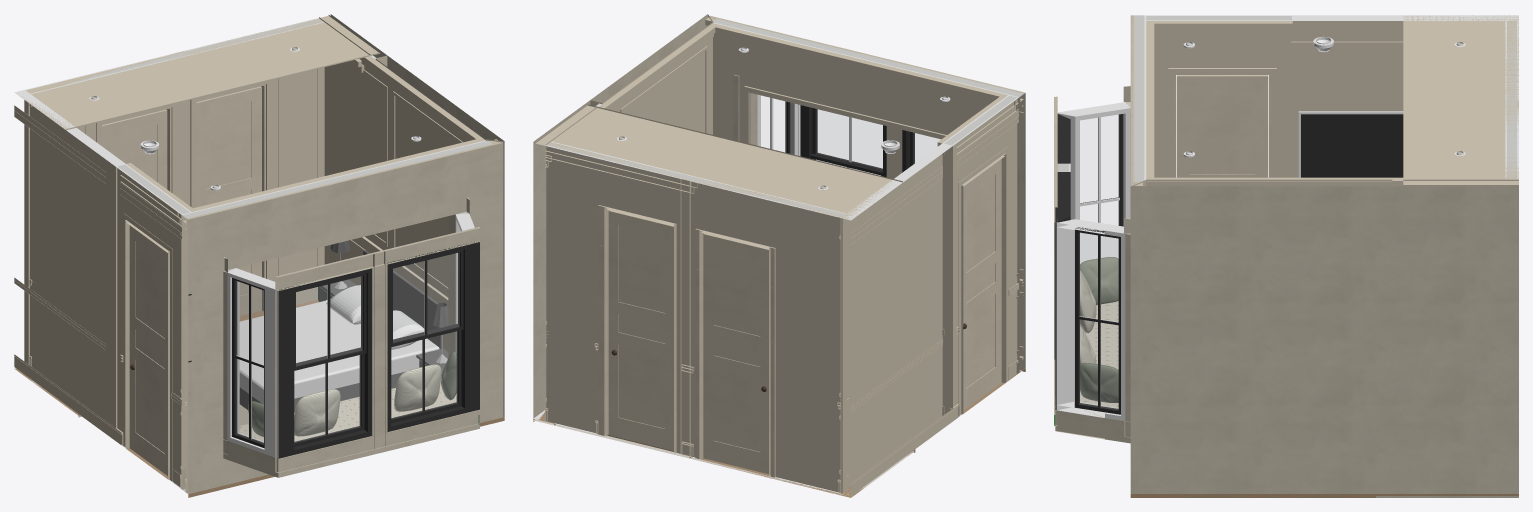
The model's file is loli-bedroom-859df771120a.glb.
3 renders of one model, left to right at view 1: azimuth 30°, elevation 25°; view 2: azimuth 150°, elevation 25°; view 3: azimuth 270°, elevation 25°, orthographic. The views are drawn at different scales.
Visible parts, largest first — view 1: loli-bedroom-93447d0fea18c81b, loli-bedroom-6a1144f4e43410bb, loli-bedroom-fd1c2425c72e98e4, loli-bedroom-4cda501b4aaed82b, loli-bedroom-2575515a05775d9e, loli-bedroom-4be2558270762b51, loli-bedroom-0e637d2be41161fb, loli-bedroom-527014f532f46c8e, loli-bedroom-cf6d22c5317ced0b, loli-bedroom-592bd9af2ed71797, loli-bedroom-eceff908bd344cec, loli-bedroom-75b75731e5e739a5 (+27 smaller); view 2: loli-bedroom-0e637d2be41161fb, loli-bedroom-6a1144f4e43410bb, loli-bedroom-93447d0fea18c81b, loli-bedroom-5b37b110dc0e2cdc, loli-bedroom-eceff908bd344cec, loli-bedroom-2575515a05775d9e, loli-bedroom-68d06b361ac47823, loli-bedroom-cf6d22c5317ced0b, loli-bedroom-592bd9af2ed71797, loli-bedroom-4cda501b4aaed82b, loli-bedroom-e6c2d716d4dbef87, loli-bedroom-319244b3406409d9 (+19 smaller); view 3: loli-bedroom-592bd9af2ed71797, loli-bedroom-319244b3406409d9, loli-bedroom-2575515a05775d9e, loli-bedroom-53e6a9e479527da3, loli-bedroom-6a1144f4e43410bb, loli-bedroom-cf6d22c5317ced0b, loli-bedroom-68d06b361ac47823, loli-bedroom-527014f532f46c8e, loli-bedroom-8a8ceecced350b7e, loli-bedroom-93447d0fea18c81b, loli-bedroom-d8b729a36612415b, loli-bedroom-ad11484878029c25 (+15 smaller).
Part boxes in pixels (x1,y1,x2,y2): loli-bedroom-93447d0fea18c81b: (181, 140, 502, 494); loli-bedroom-6a1144f4e43410bb: (14, 90, 125, 428); loli-bedroom-fd1c2425c72e98e4: (279, 268, 371, 458); loli-bedroom-4cda501b4aaed82b: (386, 241, 479, 431); loli-bedroom-2575515a05775d9e: (17, 15, 380, 130); loli-bedroom-4be2558270762b51: (239, 240, 448, 412); loli-bedroom-0e637d2be41161fb: (24, 18, 324, 364); loli-bedroom-527014f532f46c8e: (227, 268, 278, 458); loli-bedroom-cf6d22c5317ced0b: (129, 225, 167, 475); loli-bedroom-592bd9af2ed71797: (375, 55, 504, 416); loli-bedroom-eceff908bd344cec: (196, 86, 261, 315); loli-bedroom-75b75731e5e739a5: (277, 263, 478, 477); loli-bedroom-0e637d2be41161fb: (545, 141, 847, 493); loli-bedroom-6a1144f4e43410bb: (842, 143, 952, 495); loli-bedroom-93447d0fea18c81b: (709, 15, 1025, 372); loli-bedroom-5b37b110dc0e2cdc: (703, 233, 768, 474); loli-bedroom-eceff908bd344cec: (608, 210, 673, 450); loli-bedroom-2575515a05775d9e: (535, 104, 902, 220); loli-bedroom-68d06b361ac47823: (942, 95, 1018, 420); loli-bedroom-cf6d22c5317ced0b: (963, 159, 1001, 410); loli-bedroom-592bd9af2ed71797: (590, 14, 712, 134); loli-bedroom-4cda501b4aaed82b: (800, 105, 886, 177); loli-bedroom-e6c2d716d4dbef87: (713, 23, 1018, 110); loli-bedroom-319244b3406409d9: (533, 100, 601, 419); loli-bedroom-592bd9af2ed71797: (1130, 179, 1392, 493); loli-bedroom-319244b3406409d9: (1392, 179, 1518, 493); loli-bedroom-2575515a05775d9e: (1403, 15, 1518, 186); loli-bedroom-53e6a9e479527da3: (1056, 219, 1125, 421); loli-bedroom-6a1144f4e43410bb: (1292, 15, 1518, 177); loli-bedroom-cf6d22c5317ced0b: (1176, 75, 1268, 177); loli-bedroom-68d06b361ac47823: (1146, 15, 1291, 177); loli-bedroom-527014f532f46c8e: (1057, 102, 1130, 263); loli-bedroom-8a8ceecced350b7e: (1298, 111, 1403, 177); loli-bedroom-93447d0fea18c81b: (1130, 15, 1146, 185); loli-bedroom-d8b729a36612415b: (1055, 234, 1130, 443); loli-bedroom-ad11484878029c25: (1147, 177, 1391, 186).
Bounding box in the file's own units: 3.62 × 3.05 × 4.12.
34 materials, 8 textured.
